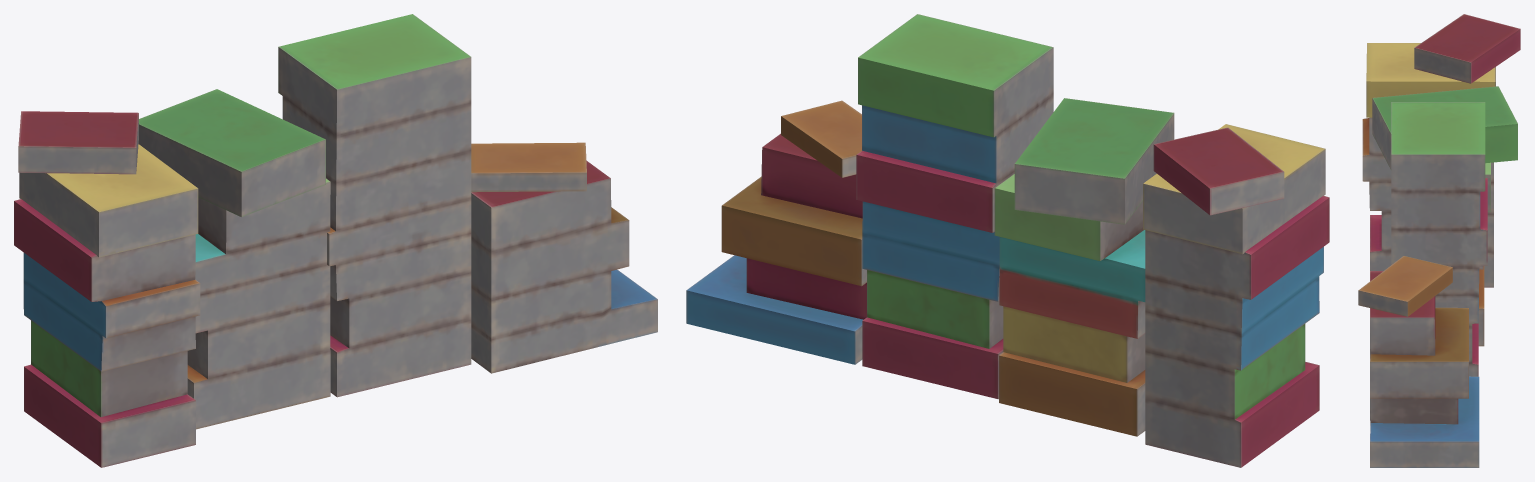
File: Pfb_Indoors_Books__11.fbx
3 renders of one model, left to right at view 1: azimuth 30°, elevation 25°; view 2: azimuth 150°, elevation 25°; view 3: azimuth 270°, elevation 25°, orthographic. The views are drawn at different scales.
Parts seen in each view (by area): view 1: Mat_Indoors_Books_01; view 2: Mat_Indoors_Books_01; view 3: Mat_Indoors_Books_01.
Boxes of the visible parts, <box> form: Mat_Indoors_Books_01: <box>14,14,657,467</box>; Mat_Indoors_Books_01: <box>686,14,1329,467</box>; Mat_Indoors_Books_01: <box>1358,14,1520,467</box>.
Size of the model in its own units: 1.91 by 0.9673 by 0.5764.
1 material, 1 textured.
